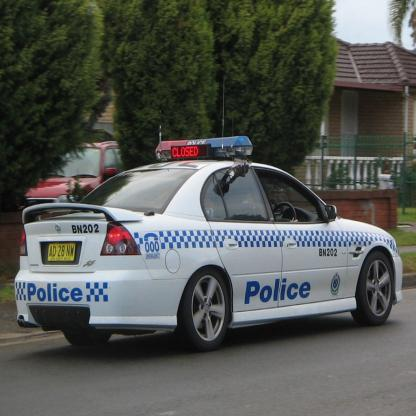Car: (15, 76, 403, 350), (22, 137, 130, 258)
